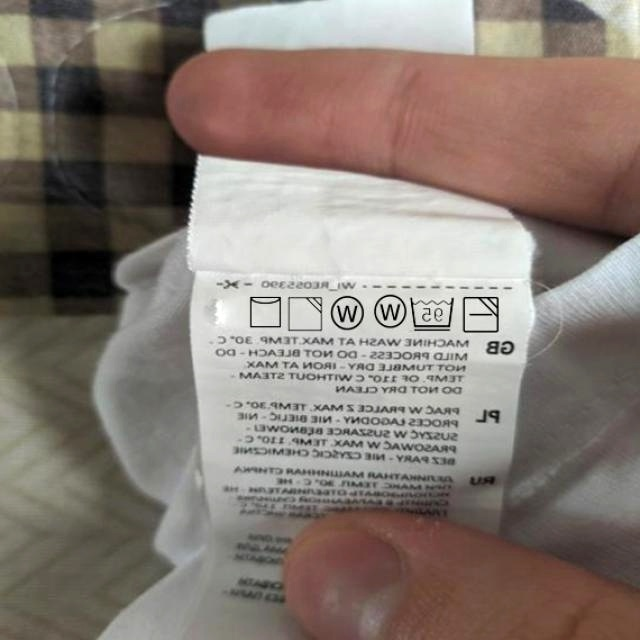95C: (408, 294, 456, 332)
dry_flat_in_shade: (462, 293, 501, 335)
line_dry: (245, 292, 284, 330)
shade_dry: (286, 294, 324, 333)
wet_clean: (329, 294, 365, 333), (371, 290, 406, 330)
